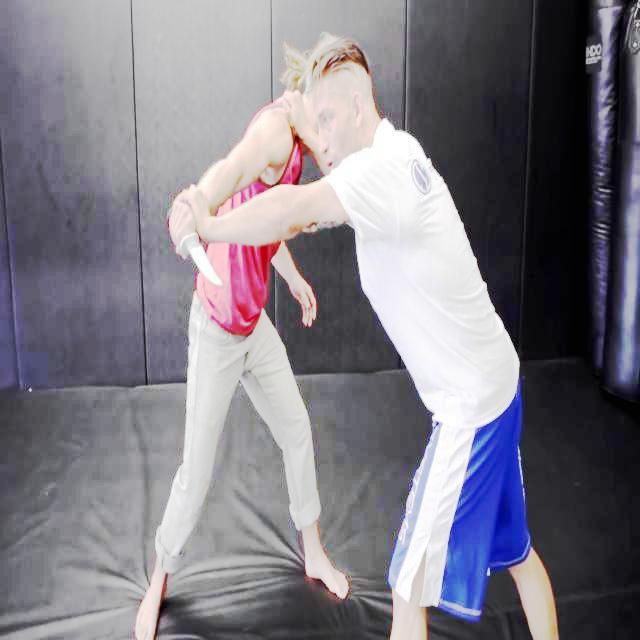Knife: (168, 219, 228, 288)
